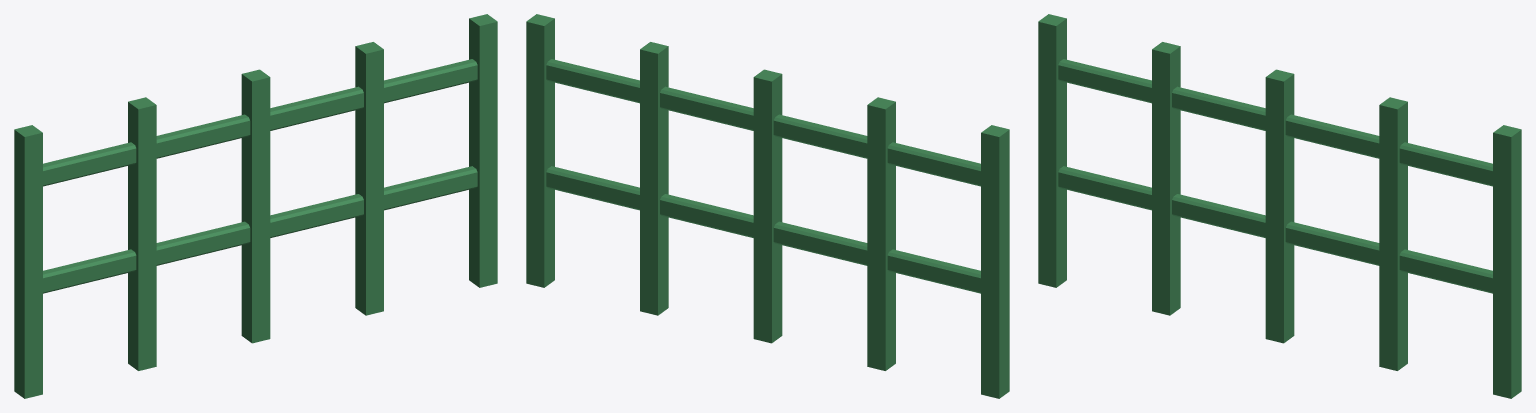
The model's file is fence.glb.
3 renders of one model, left to right at view 1: azimuth 30°, elevation 25°; view 2: azimuth 150°, elevation 25°; view 3: azimuth 330°, elevation 25°, orthographic.
Parts seen in each view (by area): view 1: fence, fence_rail2, fence_post0, fence_post2, fence_post1, fence_post4, fence_post3; view 2: fence, fence_rail2, fence_post0, fence_post2, fence_post1, fence_post4, fence_post3; view 3: fence, fence_rail2, fence_post4, fence_post2, fence_post3, fence_post0, fence_post1.
Boxes of the visible parts, x1=… form: fence: x1=43, y1=59, x2=477, y2=186; fence_rail2: x1=43, y1=166, x2=477, y2=293; fence_post0: x1=14, y1=125, x2=42, y2=398; fence_post2: x1=241, y1=69, x2=270, y2=343; fence_post1: x1=128, y1=97, x2=156, y2=370; fence_post4: x1=469, y1=14, x2=497, y2=287; fence_post3: x1=355, y1=42, x2=383, y2=315; fence: x1=546, y1=59, x2=980, y2=186; fence_rail2: x1=546, y1=166, x2=980, y2=293; fence_post0: x1=981, y1=125, x2=1009, y2=398; fence_post2: x1=753, y1=69, x2=782, y2=343; fence_post1: x1=867, y1=97, x2=895, y2=370; fence_post4: x1=526, y1=14, x2=554, y2=287; fence_post3: x1=640, y1=42, x2=668, y2=315; fence: x1=1058, y1=59, x2=1492, y2=186; fence_rail2: x1=1058, y1=166, x2=1492, y2=293; fence_post4: x1=1493, y1=125, x2=1521, y2=398; fence_post2: x1=1265, y1=69, x2=1294, y2=343; fence_post3: x1=1379, y1=97, x2=1407, y2=370; fence_post0: x1=1038, y1=14, x2=1066, y2=287; fence_post1: x1=1152, y1=42, x2=1180, y2=315.
Bounding box in the file's own units: 2.08 × 1.1 × 0.08.
